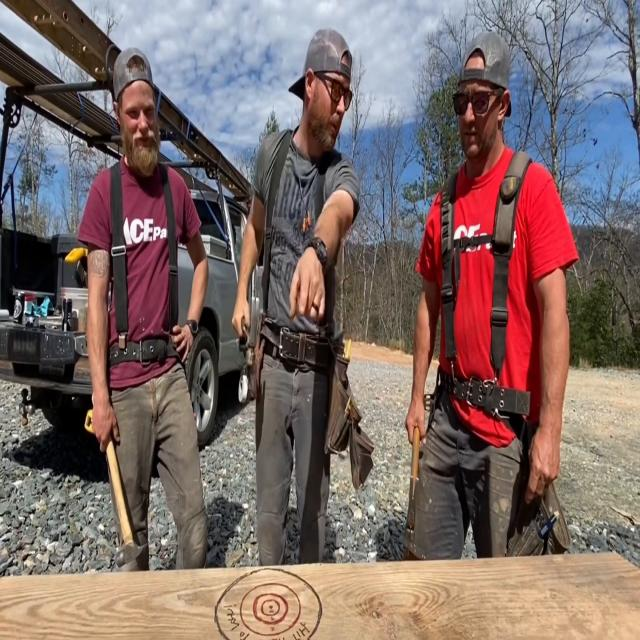hammer: (105, 429, 148, 574), (402, 423, 427, 545), (239, 296, 261, 366)
